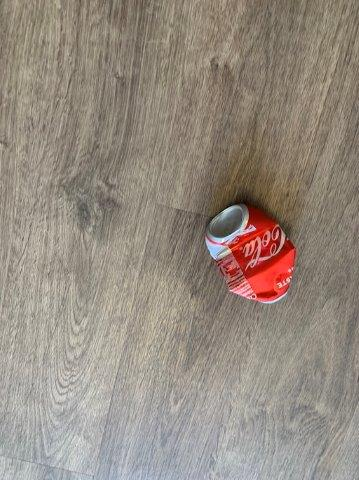kaleng: (205, 205, 296, 301)
